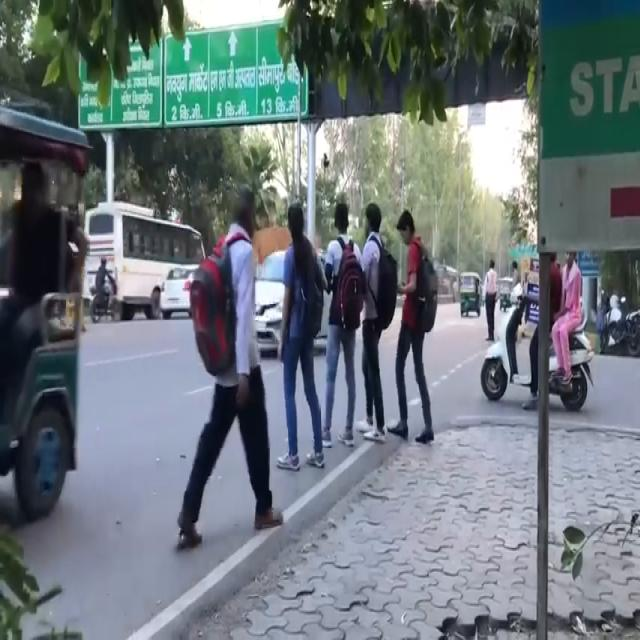BUS: (88, 201, 205, 306)
MOTORCYCLE: (478, 292, 598, 413)
